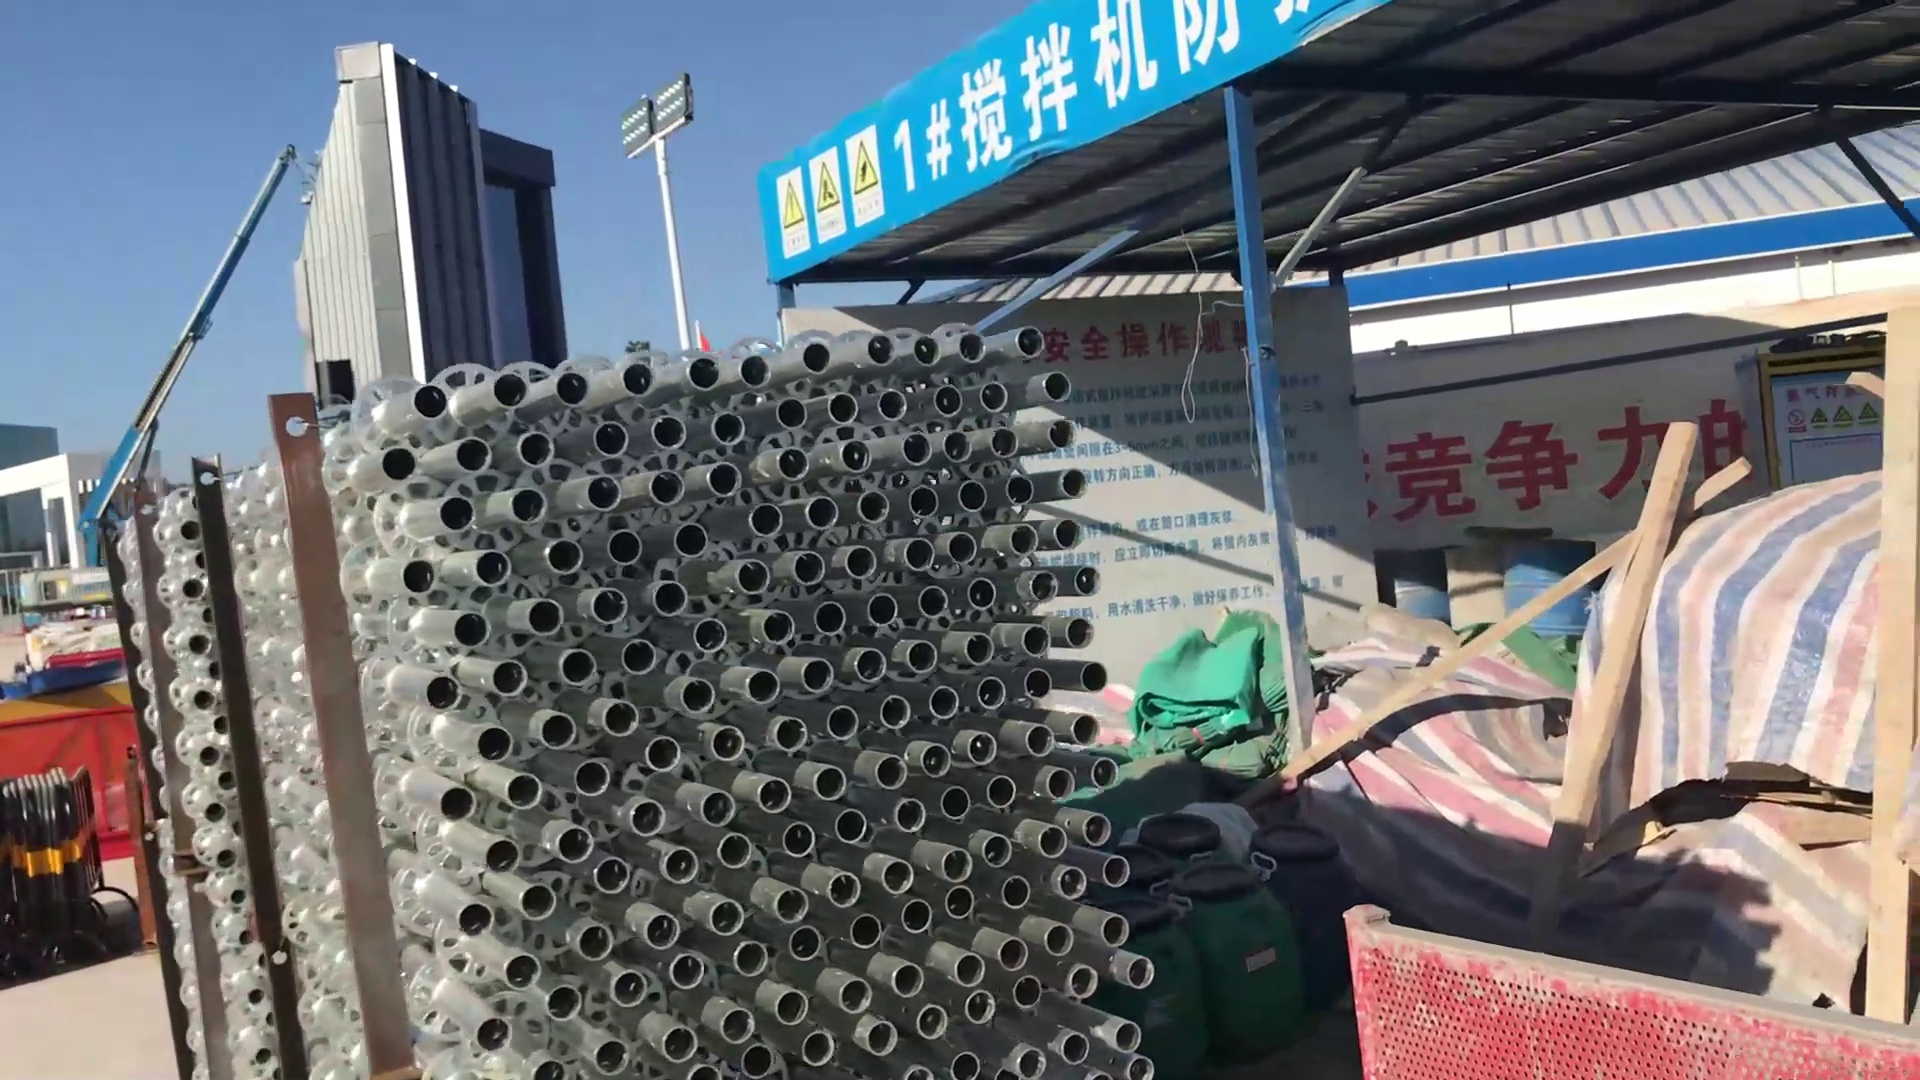fence: (1344, 899, 1920, 1080), (3, 764, 102, 992)
scaffold: (251, 339, 1168, 1080), (105, 460, 299, 1080)
slogan: (766, 129, 894, 247)
